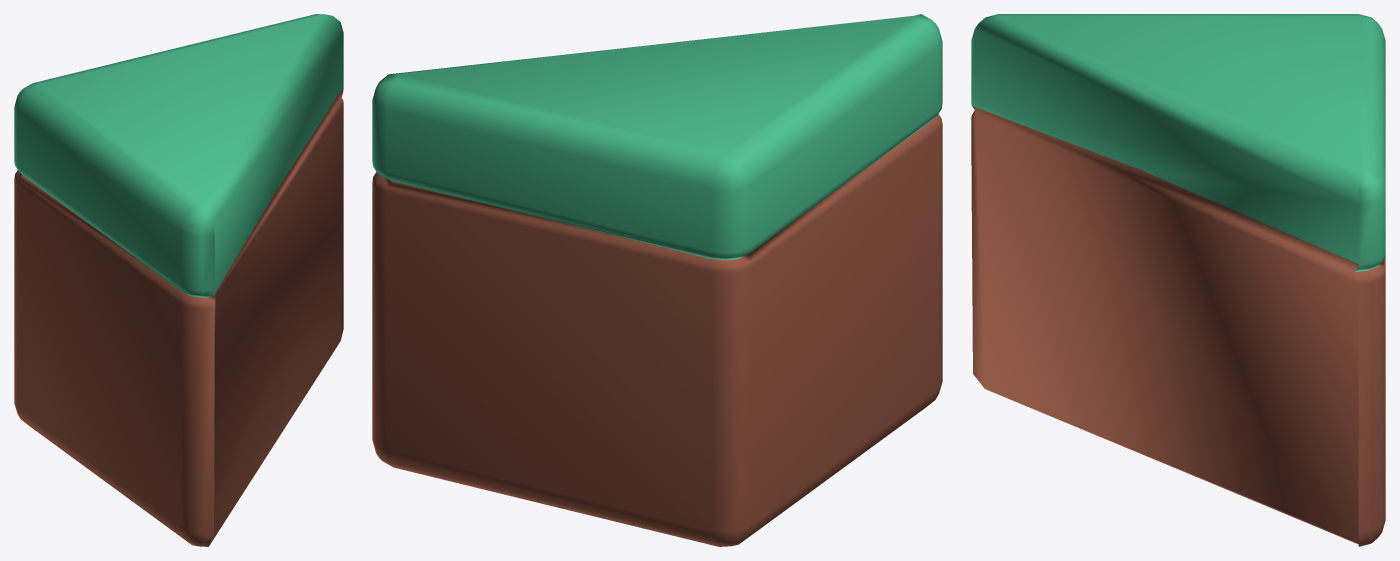
Rendered from kaykit-tileHighForestCorner.glb.
The picture shows the model from 3 angles, left to right: view 1: azimuth 30°, elevation 25°; view 2: azimuth 150°, elevation 25°; view 3: azimuth 270°, elevation 25°; orthographic projection. The views are drawn at different scales.
Visible parts, largest first — view 1: tileHigh_forest; view 2: tileHigh_forest; view 3: tileHigh_forest.
Boxes of the visible parts, box(x1,y1,x2,y2) form: tileHigh_forest: box(14, 14, 343, 546); tileHigh_forest: box(372, 14, 942, 546); tileHigh_forest: box(971, 14, 1385, 546).
Size of the model in its own units: 2 by 2 by 2.
